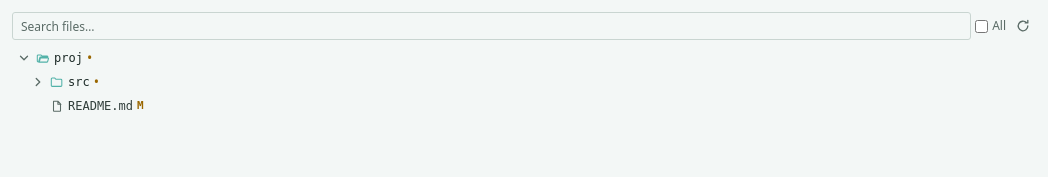
FileTree › git 标记：按 relPath 渲染状态色标，嵌套文件展开后也能渲染
Expected: the text "README.md" is shown, x1=68 y1=98 x2=133 y2=114
Expected: the text "M" is shown, x1=137 y1=98 x2=144 y2=114
展开子目录后，嵌套文件按自身 relPath 渲染色标
Click the text "src" at x=79, y=82, box x1=68 y1=74 x2=90 y2=90
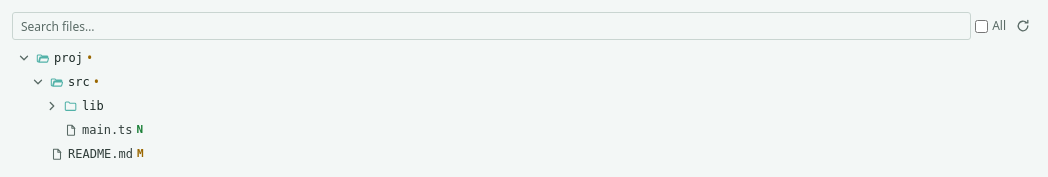
Result: the text "N" is shown at x1=137 y1=122 x2=143 y2=138
